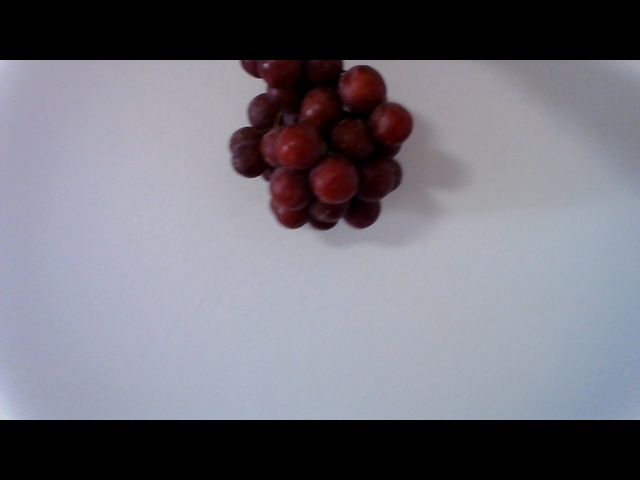grape: (221, 57, 417, 236)
